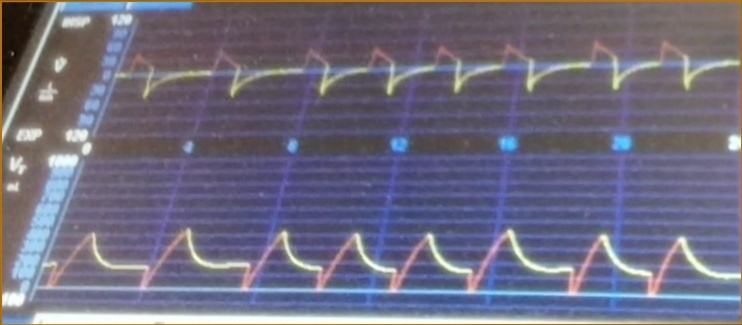Flow: (127, 28, 737, 133)
Leakage Volume: (62, 201, 738, 312)
